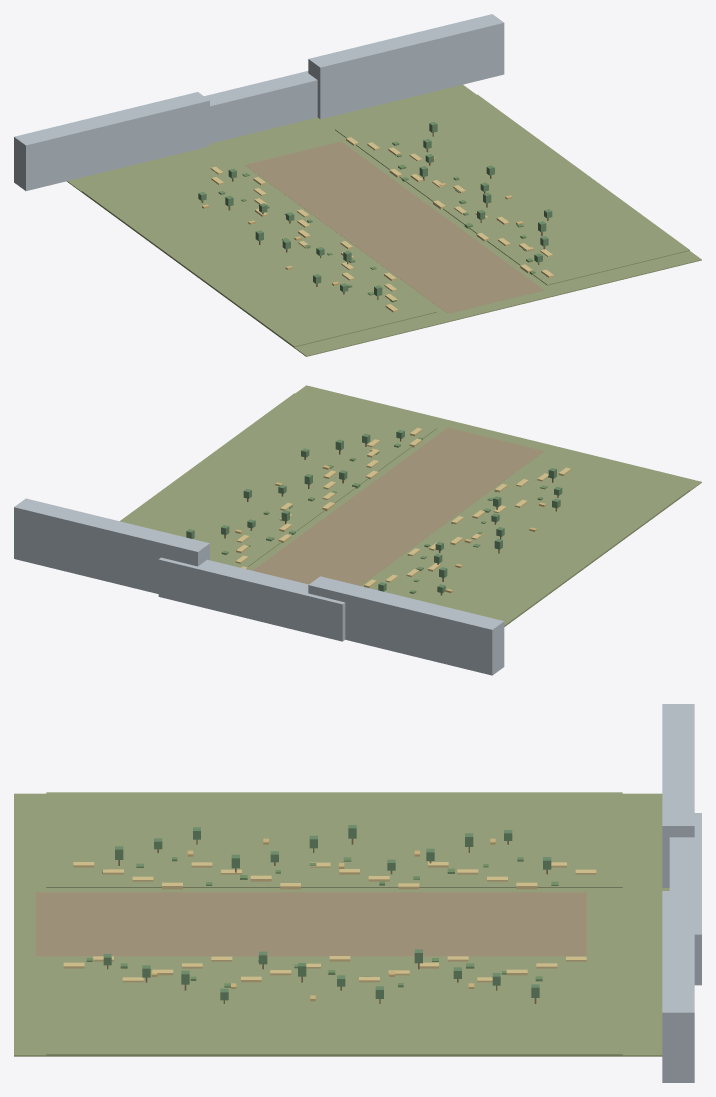
The model's file is br-field.gltf.
3 renders of one model, top to bottom at view 1: azimuth 30°, elevation 25°; view 2: azimuth 150°, elevation 25°; view 3: azimuth 270°, elevation 25°, orthographic. The views are drawn at different scales.
Parts seen in each view (by area): view 1: left-low-hill, right-low-hill, corridor-flat-earth, ground-base, mountain-right, mountain-left, mountain-center; view 2: left-low-hill, right-low-hill, corridor-flat-earth, mountain-right, mountain-left, mountain-center, ground-base; view 3: right-low-hill, left-low-hill, corridor-flat-earth, ground-base, mountain-right, mountain-left, mountain-center.
Part boxes in pixels (box(x1,y1,x2,y2)): left-low-hill: box(82, 156, 436, 347); right-low-hill: box(335, 94, 689, 285); corridor-flat-earth: box(245, 141, 544, 313); ground-base: box(67, 84, 701, 356); mountain-right: box(308, 14, 504, 119); mountain-left: box(14, 92, 209, 190); mountain-center: box(204, 71, 317, 143); left-low-hill: box(369, 455, 689, 626); right-low-hill: box(120, 393, 436, 567); corridor-flat-earth: box(252, 427, 544, 585); mountain-right: box(14, 498, 209, 593); mountain-left: box(308, 576, 504, 675); mountain-center: box(158, 557, 345, 641); ground-base: box(248, 385, 701, 626); right-low-hill: box(46, 960, 622, 1055); left-low-hill: box(46, 792, 622, 887); corridor-flat-earth: box(35, 892, 586, 956); ground-base: box(14, 793, 669, 1056); mountain-right: box(662, 891, 694, 1082); mountain-left: box(662, 704, 694, 887); mountain-center: box(669, 813, 701, 985).
Bounding box in the file's own units: 208 × 21.85 × 191.
